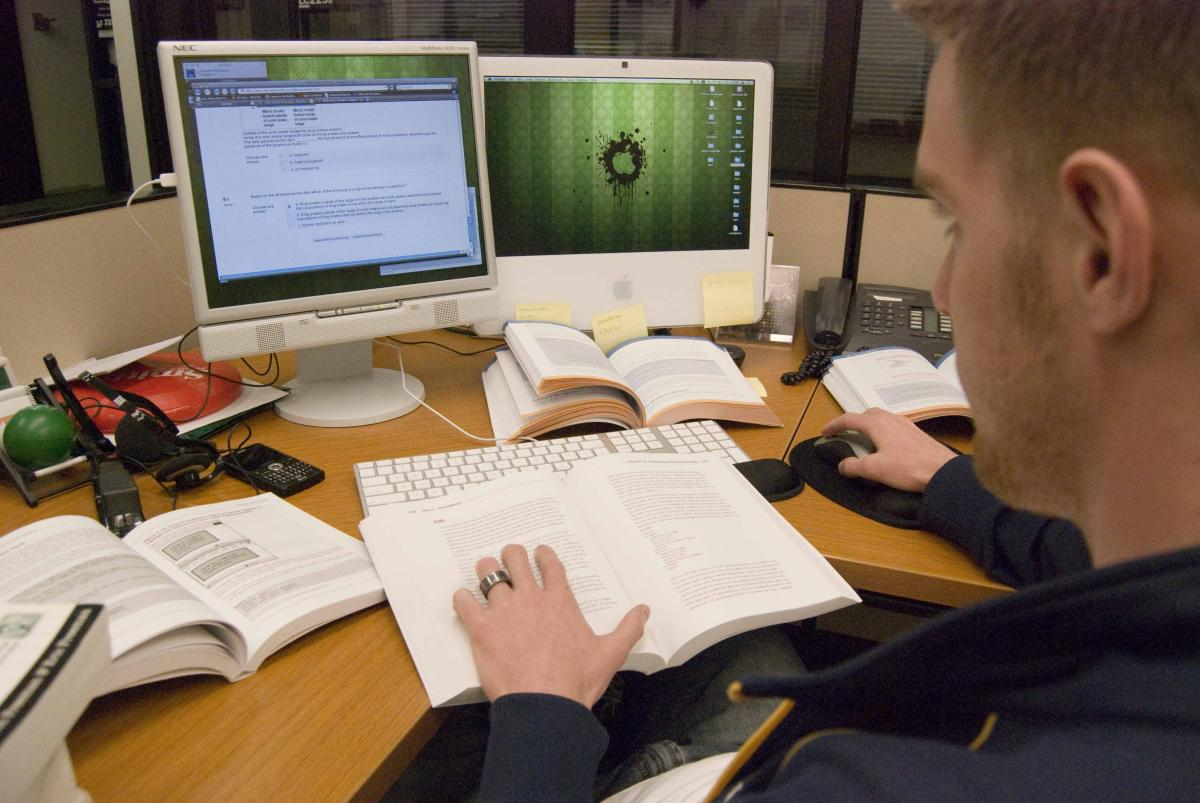Open Book: (351, 456, 869, 700), (1, 491, 397, 712), (473, 317, 782, 445), (828, 342, 1006, 433)
